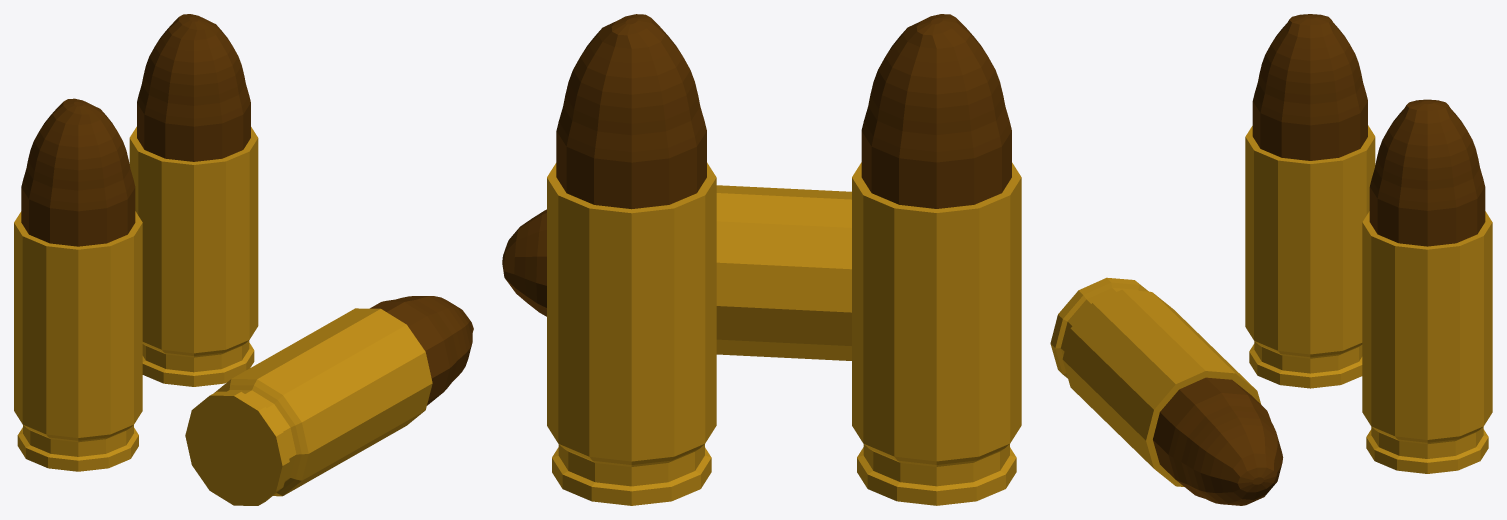
Rendered from Ammo.fbx.
3 renders of one model, left to right at view 1: azimuth 30°, elevation 25°; view 2: azimuth 150°, elevation 25°; view 3: azimuth 270°, elevation 25°, orthographic. The views are drawn at different scales.
Visible parts, largest first — view 1: Cylinder; view 2: Cylinder; view 3: Cylinder.
Part boxes in pixels (left/top/right/bottom): Cylinder: left=14, top=14, right=473, bottom=505; Cylinder: left=502, top=14, right=1021, bottom=505; Cylinder: left=1050, top=14, right=1492, bottom=505.
Bounding box in the file's own units: 499 × 396 × 455.
